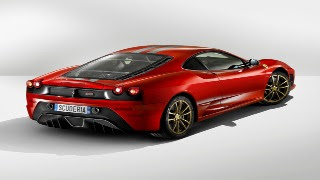car: (25, 39, 302, 140)
